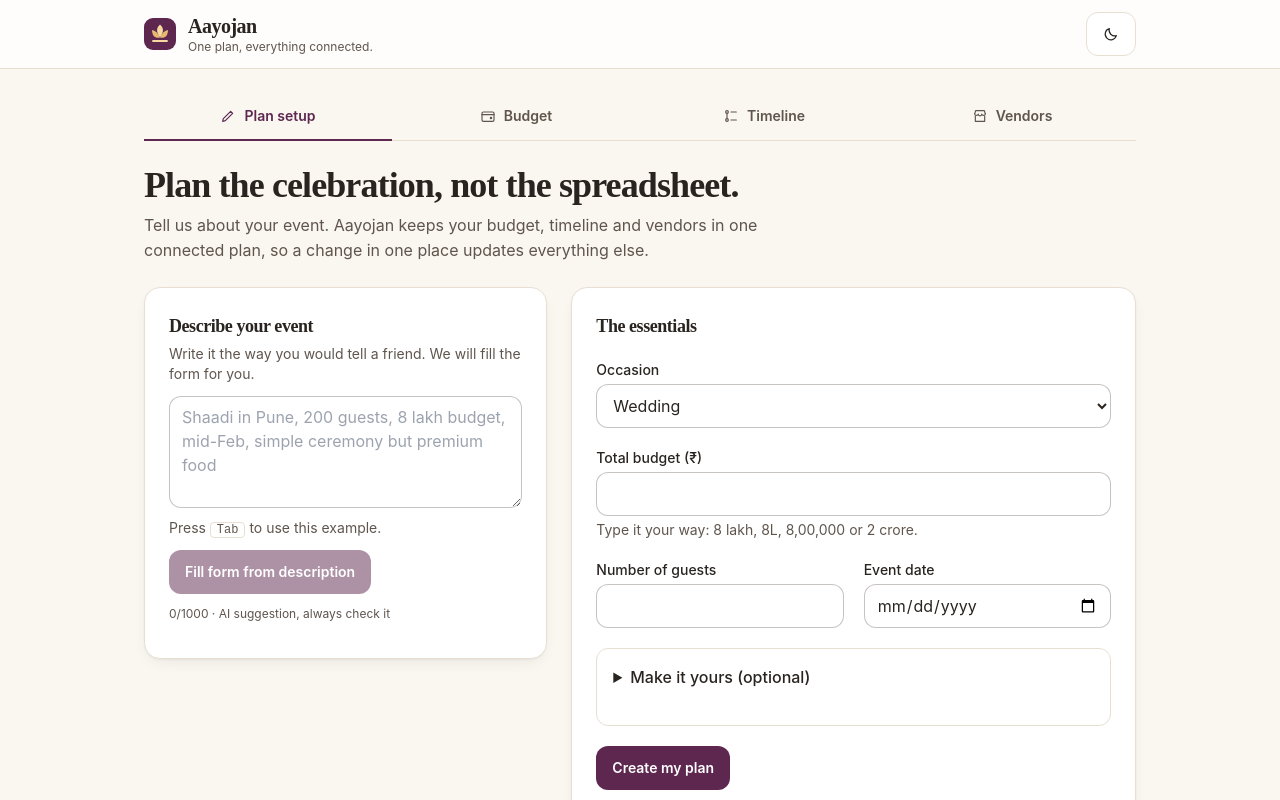
Test: plan setup with AI › reports when the description had no usable details, and retries after a failure
In the text box named "Event description": [346, 452] box 169,396 -> 522,508, type "hello"
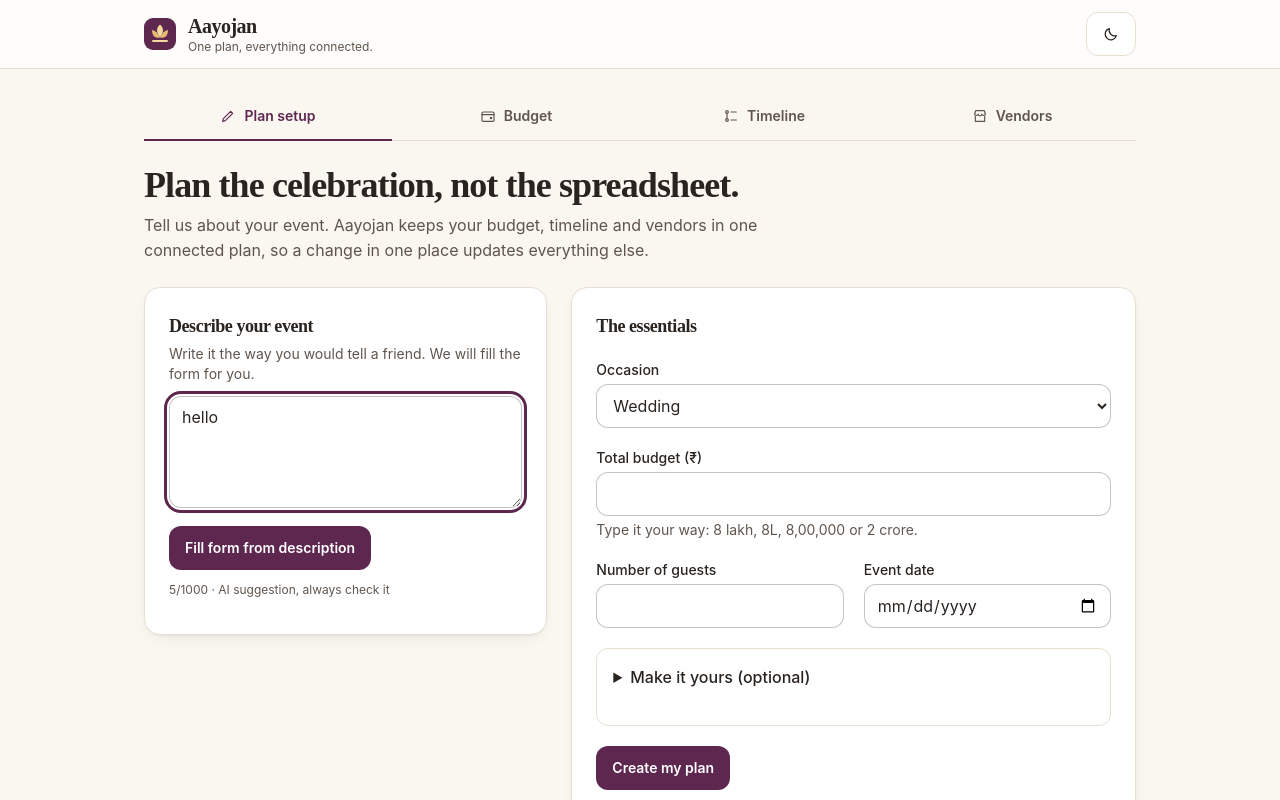
Click the button "Fill form from description": [270, 548] box 169,526 -> 371,570
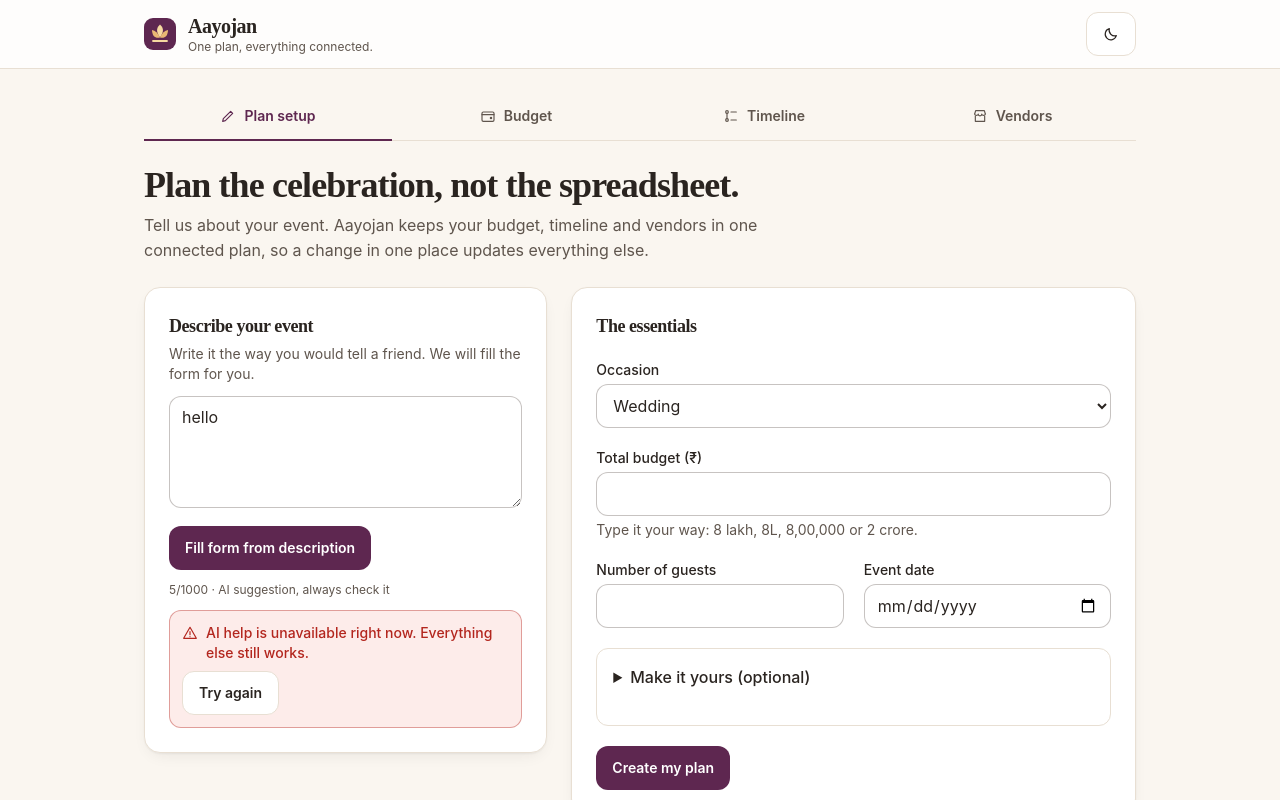
Click the button "Try again": [231, 693] box 182,671 -> 279,715
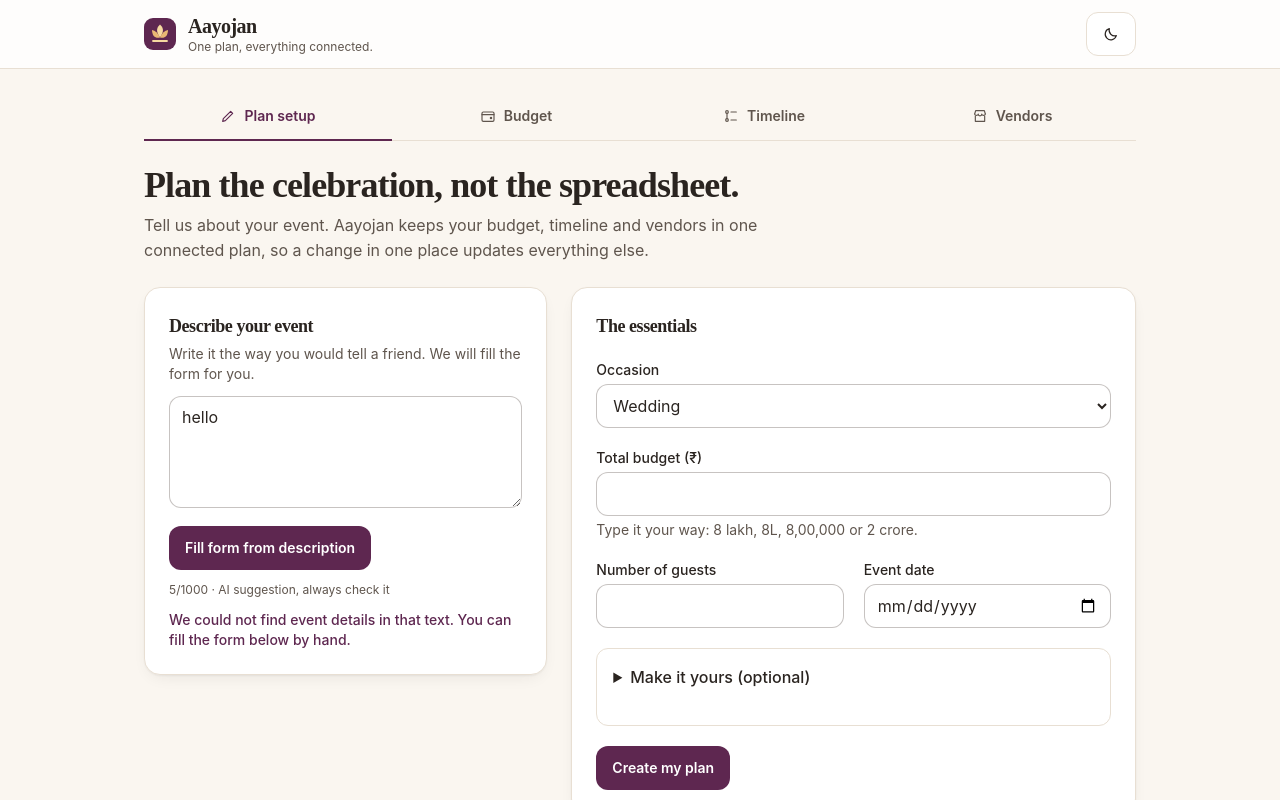
Now the text "could not find event details" is shown, box 169,611 -> 511,648
